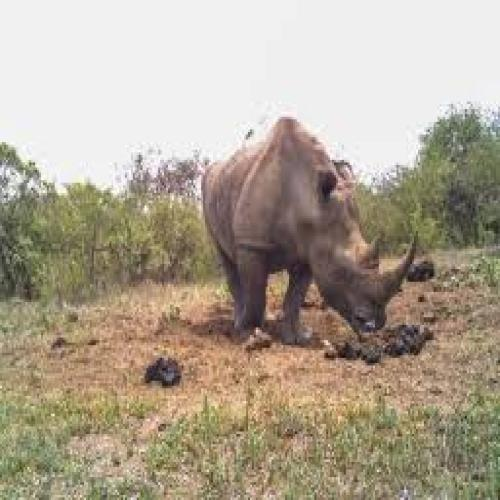rhino-endangered: (198, 120, 414, 346)
